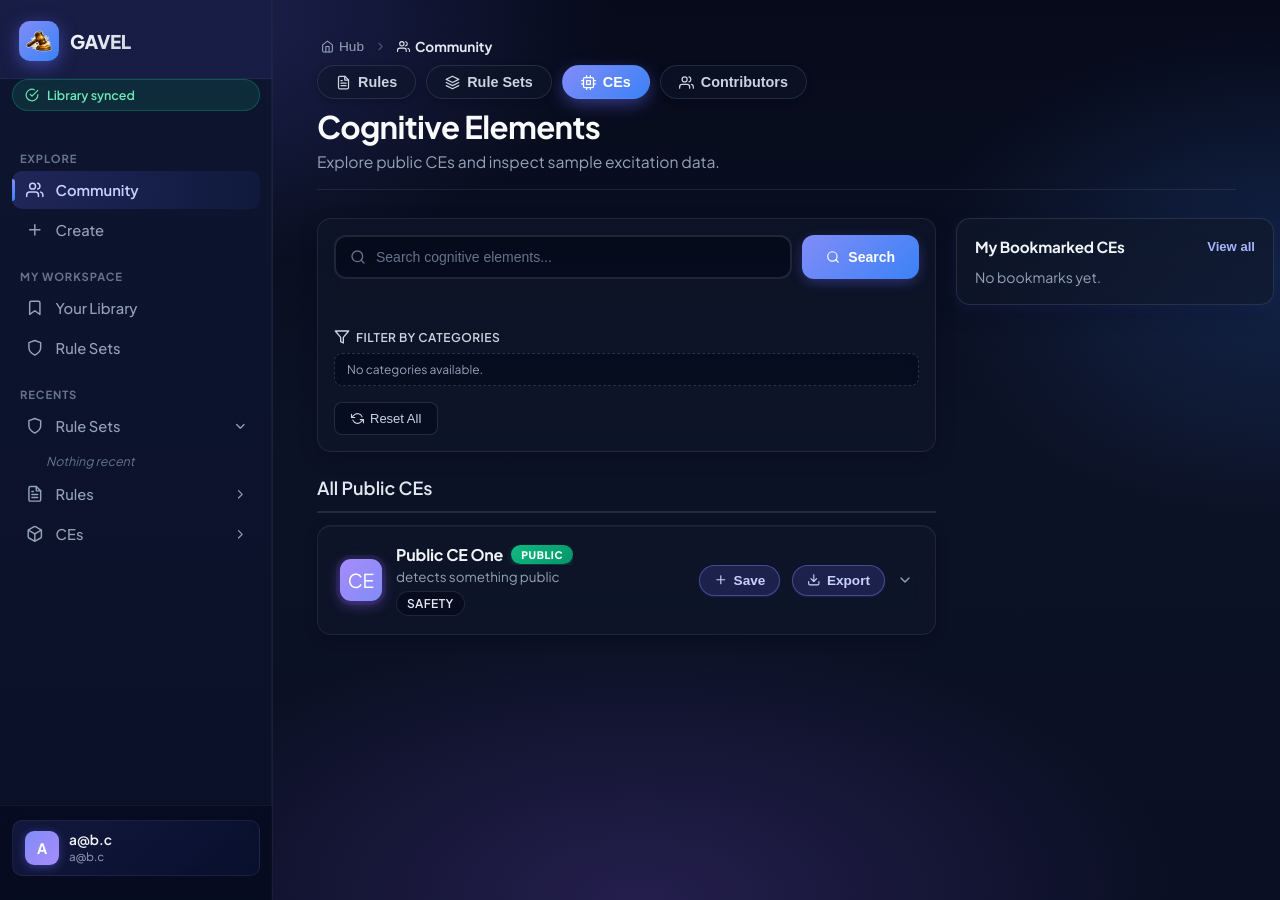
Scenario: BrowseCEs — bookmark interactions › adds a bookmark and shows a saved alert
The image size is (1280, 900).
Expected: the heading "Public CE One Public" is shown, [396,544,573,565]
Step 1. Click the button with aria-label "Bookmark CE" → (740, 580), box [699,564,780,596]
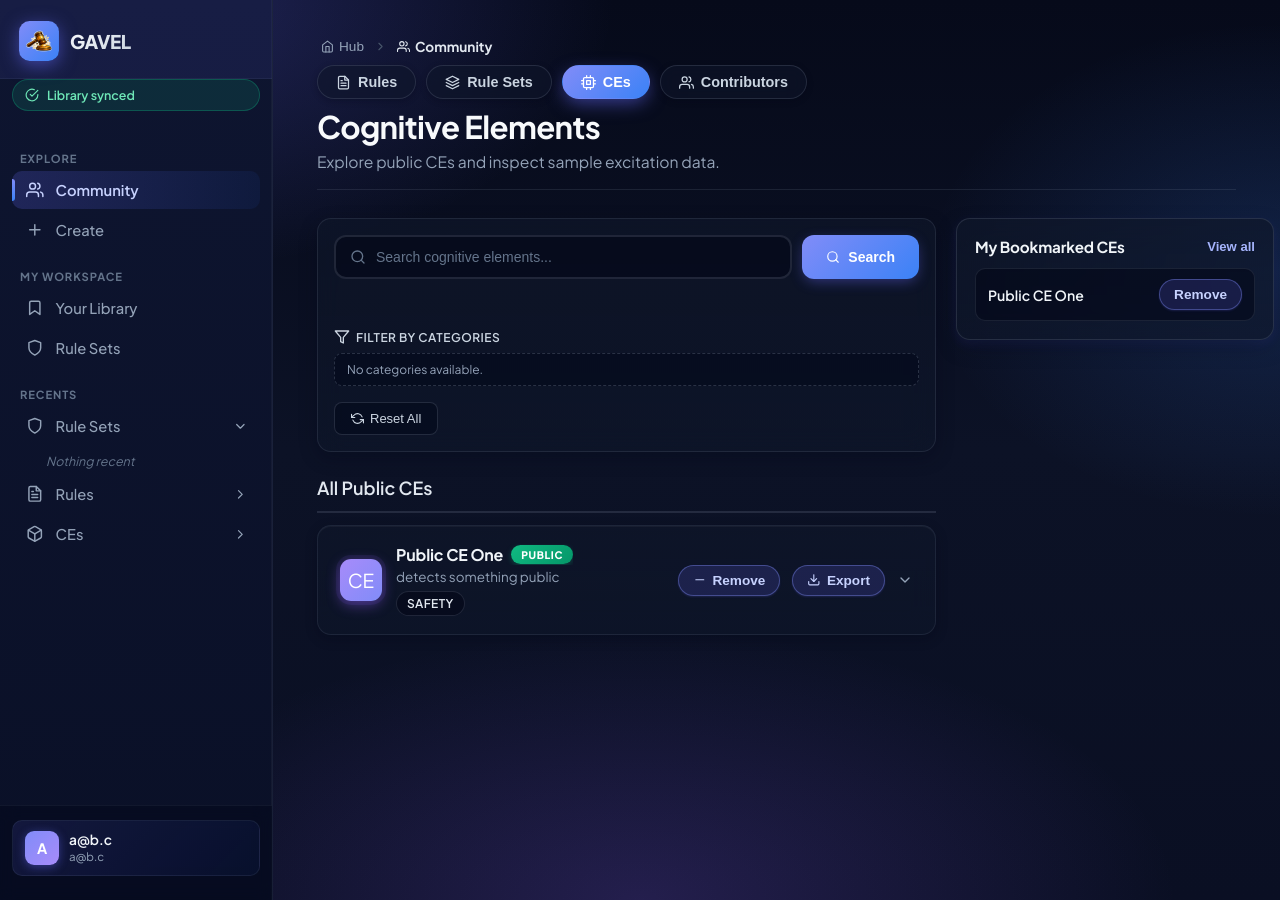
Expected: the text "Public CE One" is shown, [988,286,1084,304]
